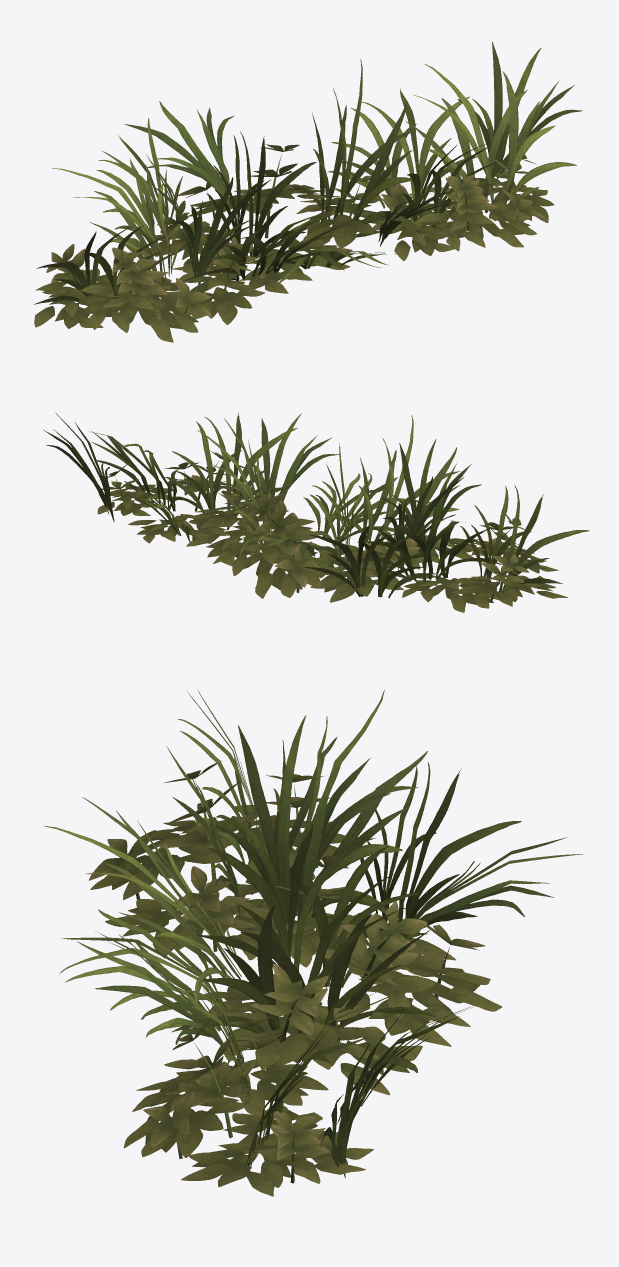
The model's file is Bush9.fbx.
3 views of the same model, one above another, from view 1: azimuth 30°, elevation 25°; view 2: azimuth 150°, elevation 25°; view 3: azimuth 270°, elevation 25° (orthographic). The views are drawn at different scales.
Visible parts, largest first — view 1: SM_cmn_mount_Bush_12a; view 2: SM_cmn_mount_Bush_12a; view 3: SM_cmn_mount_Bush_12a.
Boxes of the visible parts, left/top/right/bottom form: SM_cmn_mount_Bush_12a: left=34, top=41, right=581, bottom=342; SM_cmn_mount_Bush_12a: left=43, top=412, right=589, bottom=612; SM_cmn_mount_Bush_12a: left=44, top=690, right=582, bottom=1196.
Bounding box in the file's own units: 425 × 117 × 226.
